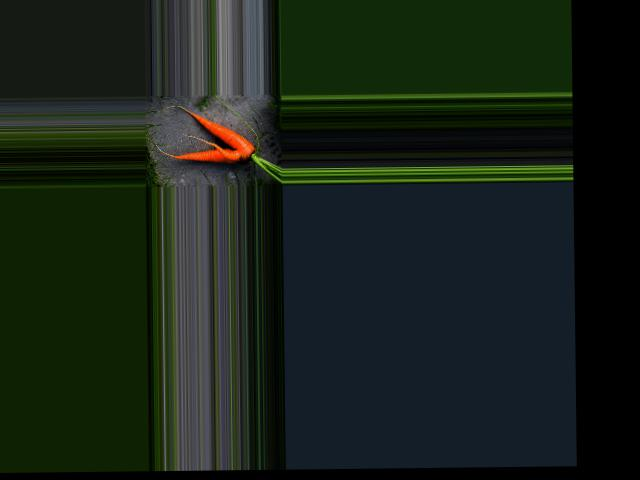carrot: (158, 138, 245, 172)
